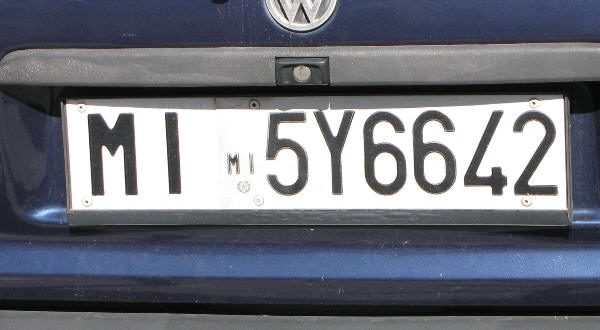license_plate: (64, 90, 567, 210)
